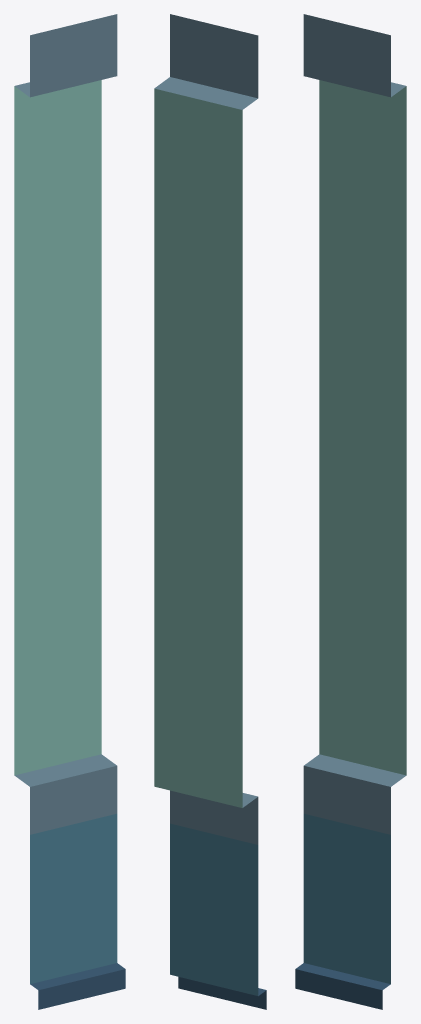
The model's file is wallWindowM.fbx.
3 views of the same model, side by side, from view 1: azimuth 30°, elevation 25°; view 2: azimuth 150°, elevation 25°; view 3: azimuth 330°, elevation 25° (orthographic).
Parts seen in each view (by area): view 1: wallWindowM; view 2: wallWindowM; view 3: wallWindowM.
Boxes of the visible parts, x1,y1,x2,y2 form: wallWindowM: [14, 14, 125, 1009]; wallWindowM: [154, 14, 266, 1009]; wallWindowM: [295, 14, 406, 1009].
Bounding box in the file's own units: 288 × 3054 × 137.
